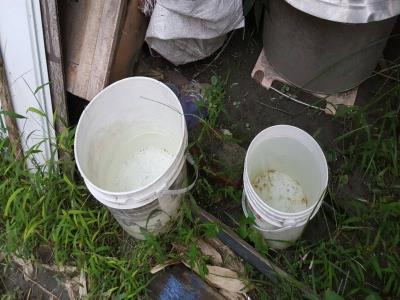bucket: (69, 74, 204, 243), (260, 1, 400, 94), (240, 120, 331, 253)
plastic_bag: (144, 1, 246, 62)
